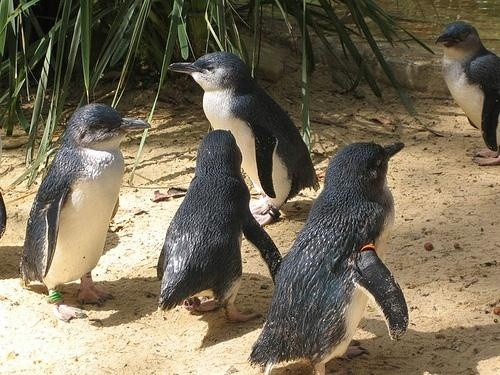bird: (247, 139, 412, 375), (19, 100, 156, 327), (164, 47, 326, 231), (155, 127, 288, 329), (435, 18, 500, 169)
